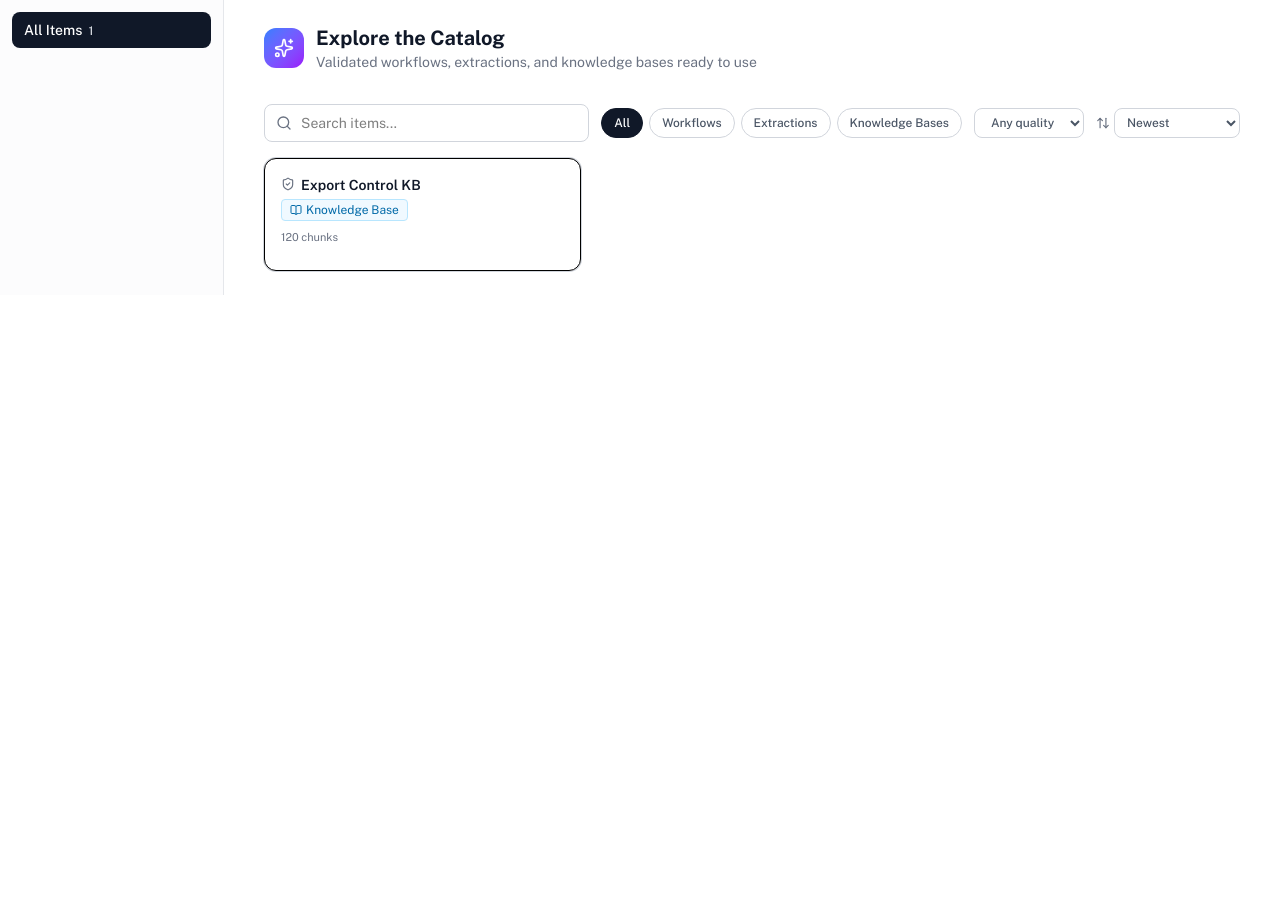
Test: ExploreTab open navigation › keeps Open in Chat enabled for a knowledge base with indexed chunks
Click the text "Export Control KB".
click(361, 185)  # box [301, 175, 421, 195]
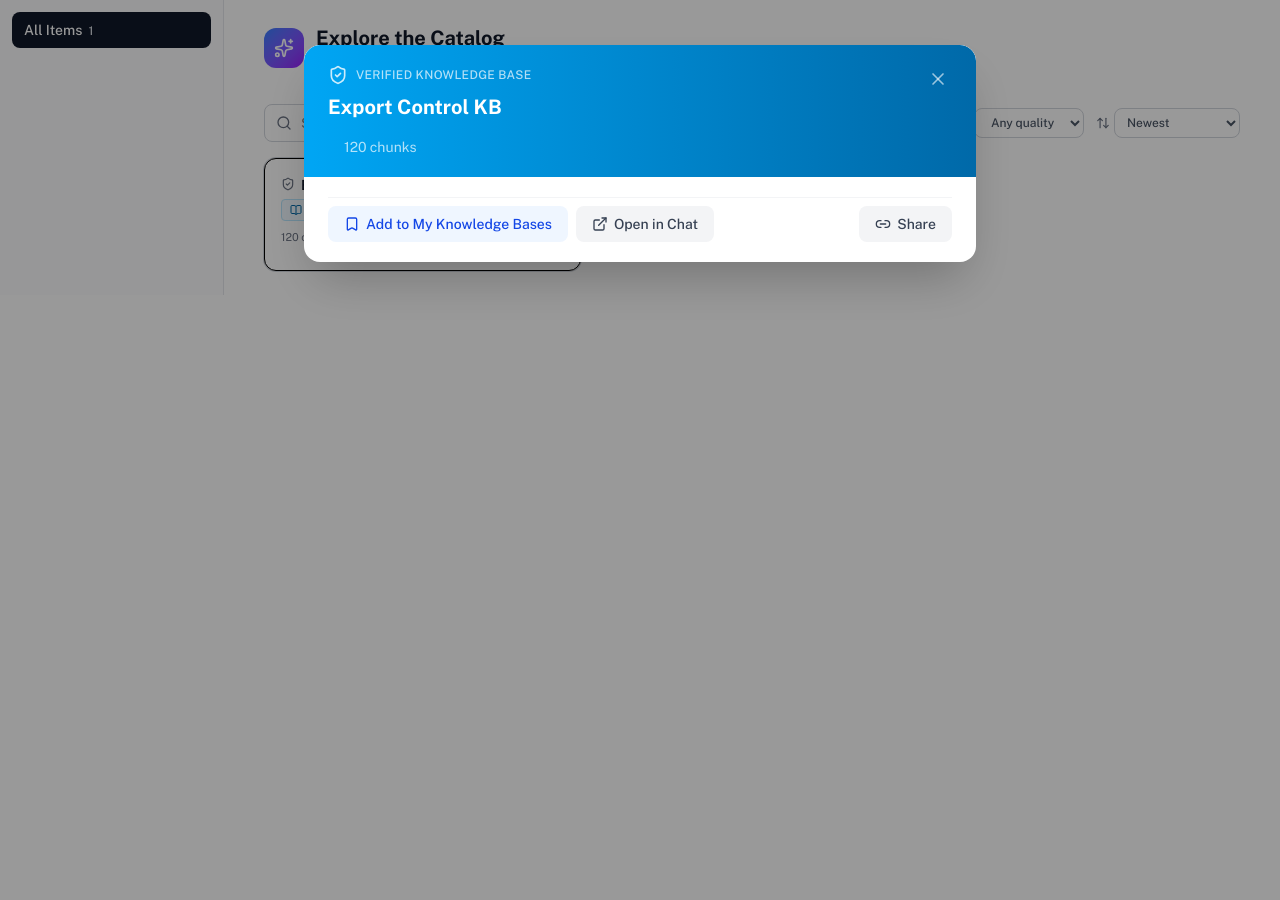
Result: the button "Open in Chat" is enabled at [576, 206, 714, 242]
